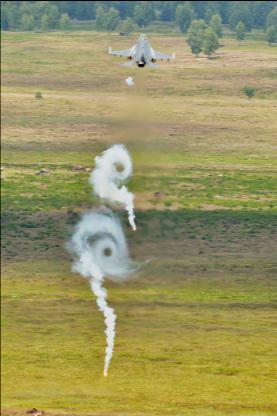F14: (108, 32, 174, 68)
